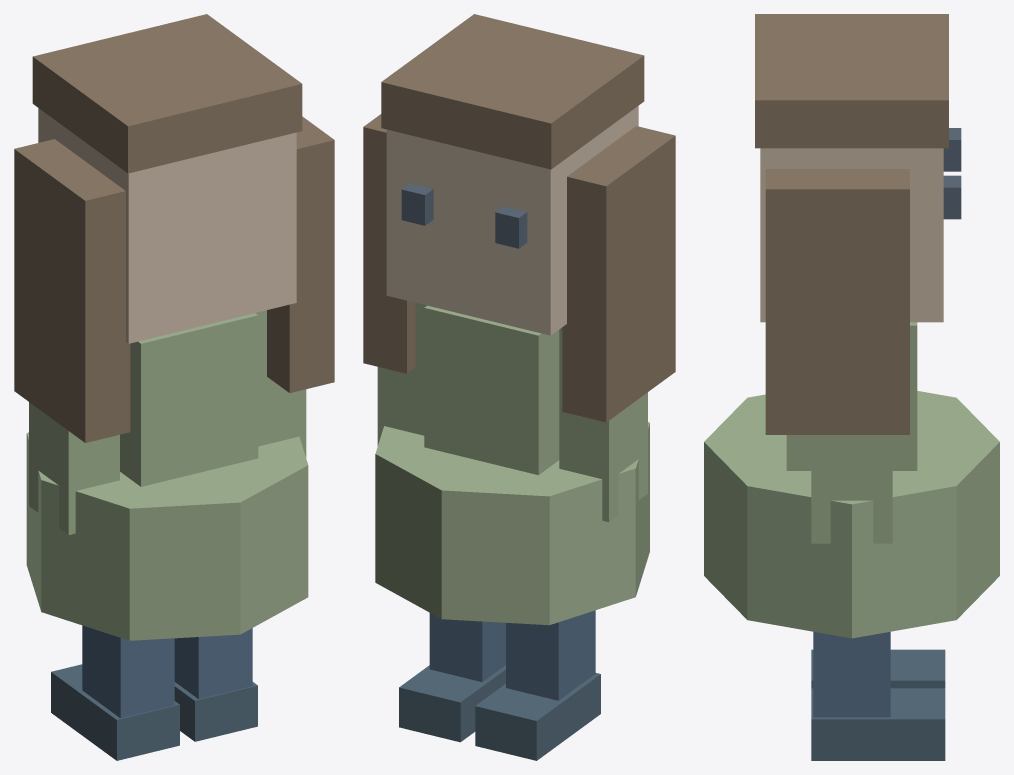
The model's file is Fern.glb.
3 views of the same model, side by side, from view 1: azimuth 30°, elevation 25°; view 2: azimuth 150°, elevation 25°; view 3: azimuth 270°, elevation 25° (orthographic). The views are drawn at different scales.
Parts seen in each view (by area): view 1: Part_02, Part_09, Part_13, Part_10, Part_00, Part_14, Part_05, Part_03, Part_07, Part_06, Part_08, Part_04; view 2: Part_02, Part_09, Part_13, Part_10, Part_00, Part_14, Part_07, Part_03, Part_05, Part_08, Part_06, Part_04 (+2 smaller); view 3: Part_02, Part_14, Part_10, Part_09, Part_08, Part_04, Part_06, Part_00, Part_07, Part_12, Part_11.
Part boxes in pixels (<box>): Part_02: <box>26,432,308,640</box>; Part_09: <box>38,108,296,343</box>; Part_13: <box>14,139,130,442</box>; Part_10: <box>32,14,302,173</box>; Part_00: <box>120,313,258,486</box>; Part_14: <box>267,116,334,392</box>; Part_05: <box>82,625,174,718</box>; Part_03: <box>29,402,119,534</box>; Part_07: <box>51,664,179,760</box>; Part_06: <box>174,628,252,699</box>; Part_08: <box>174,682,257,741</box>; Part_04: <box>255,310,306,457</box>; Part_02: <box>375,422,649,625</box>; Part_09: <box>386,106,638,335</box>; Part_13: <box>562,126,675,422</box>; Part_10: <box>381,14,644,169</box>; Part_00: <box>424,305,559,474</box>; Part_14: <box>363,114,415,373</box>; Part_07: <box>475,673,600,760</box>; Part_03: <box>559,327,647,521</box>; Part_05: <box>506,610,595,700</box>; Part_08: <box>399,665,505,742</box>; Part_06: <box>429,613,505,682</box>; Part_04: <box>377,303,426,445</box>; Part_02: <box>704,391,999,638</box>; Part_14: <box>765,169,909,434</box>; Part_10: <box>755,14,948,148</box>; Part_09: <box>760,148,943,322</box>; Part_08: <box>811,688,945,760</box>; Part_04: <box>811,435,892,543</box>; Part_06: <box>813,631,890,717</box>; Part_00: <box>786,322,917,470</box>; Part_07: <box>811,649,945,688</box>; Part_12: <box>943,175,961,219</box>; Part_11: <box>943,128,961,171</box>.
Size of the model in its own units: 0.84 by 2.1 by 0.84.
